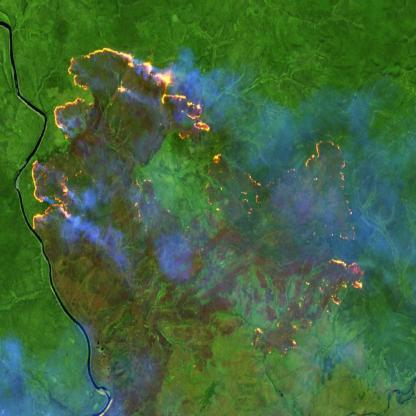fire: (28, 42, 373, 362)
